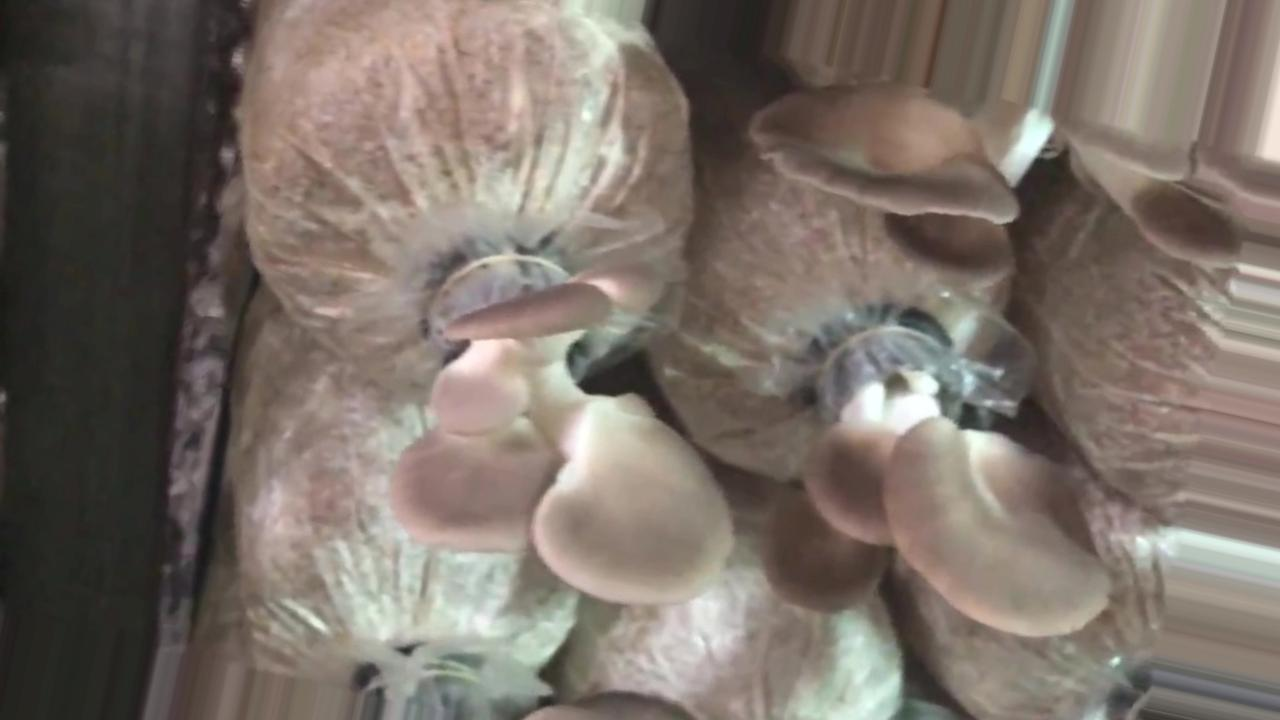nam: (760, 307, 1113, 627), (413, 255, 724, 603), (766, 82, 1023, 263)
